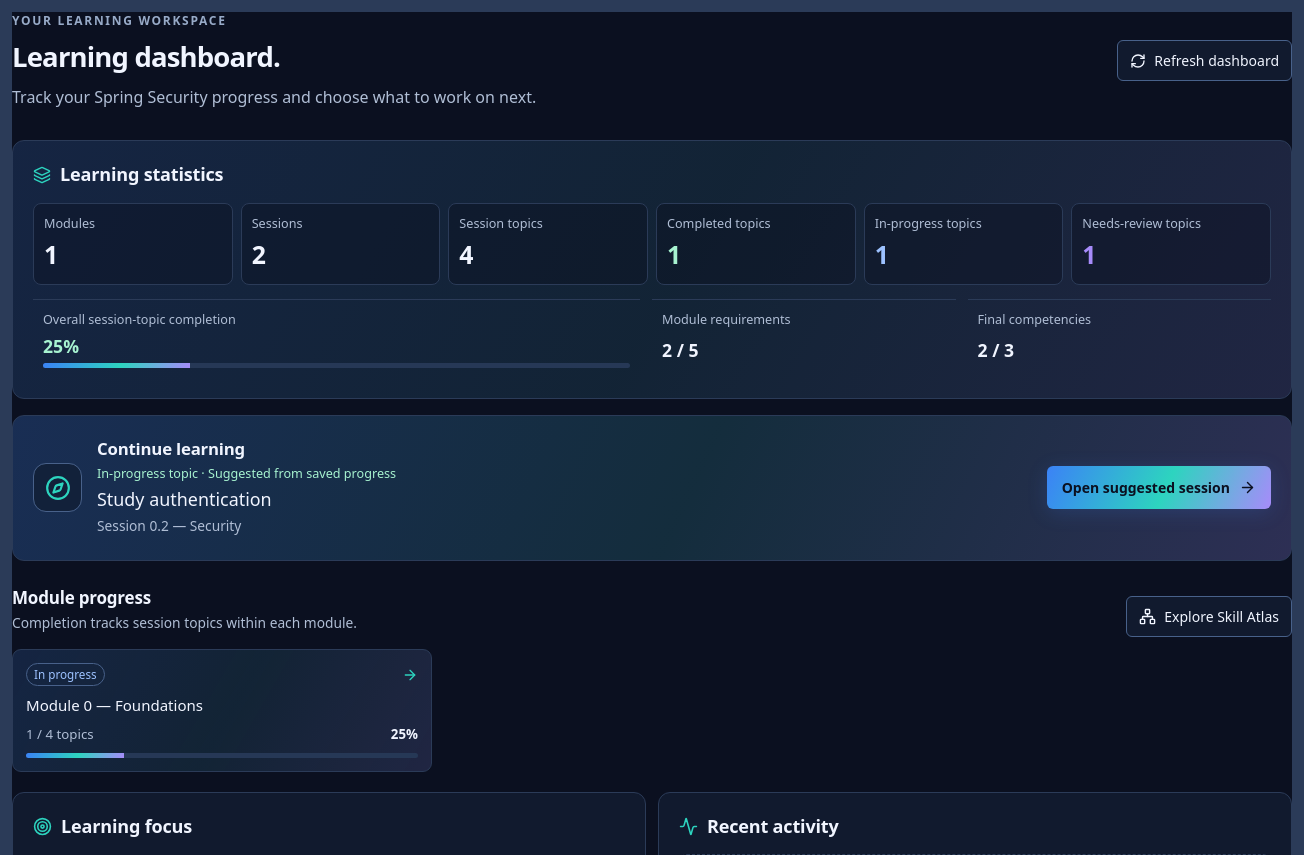
Test: keeps the activity empty for imported completions and refreshes server values
What coordinates should you click on to do the following:
click the button "Refresh dashboard"
I would click on:
 (1205, 61)
Its box is [1117,40,1292,81].
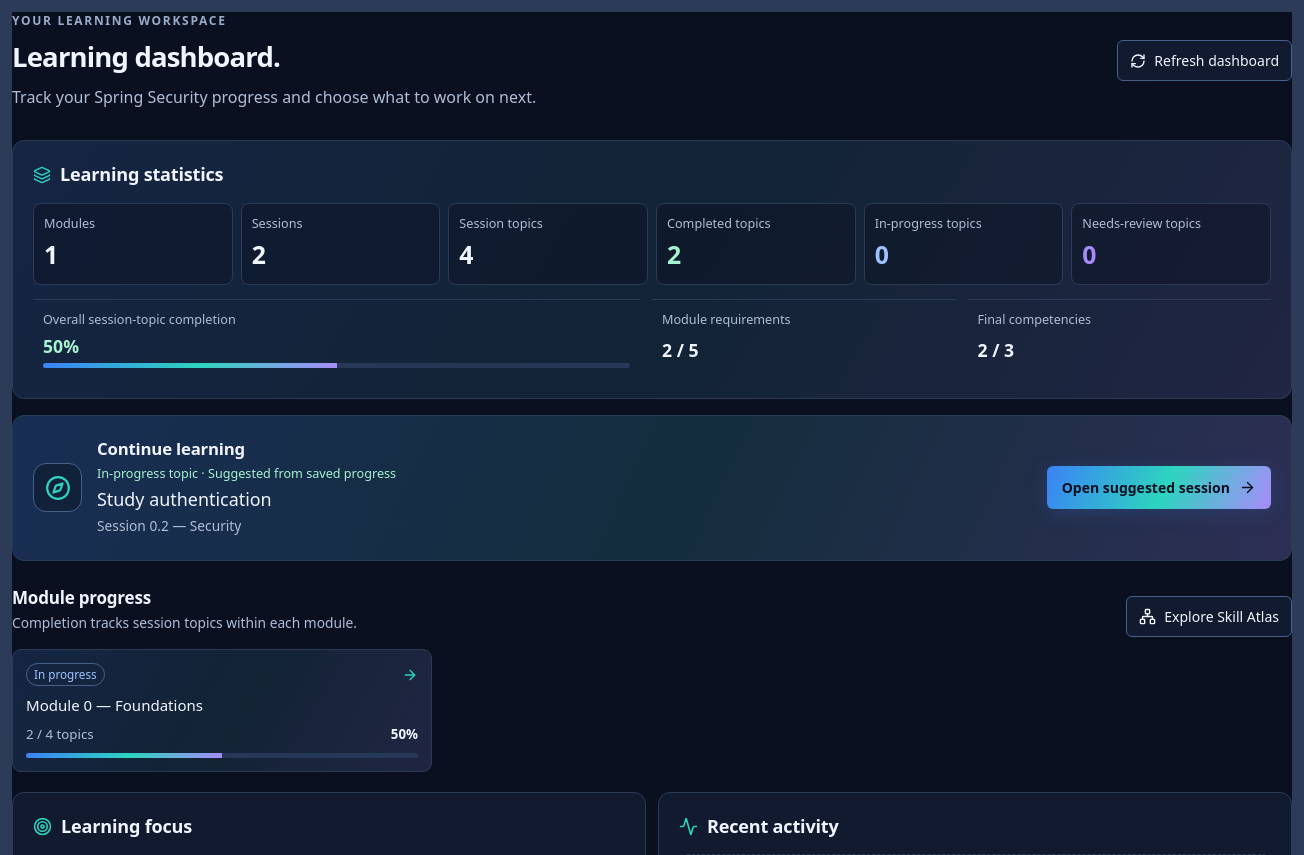
Expected: the text "50%" below "Overall session-topic completion" is shown, [43,334,79,358]
